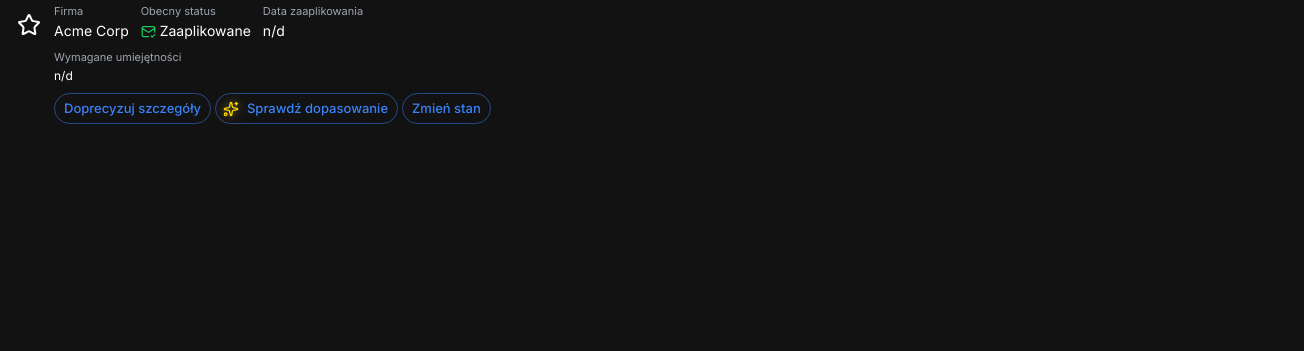
Test: ApplicationStatusEditor › requires archive reason when archiving
This screenshot has width=1304, height=351.
Click the button "Zmień stan". click: (446, 109)
box: x1=402 y1=94 x2=491 y2=124
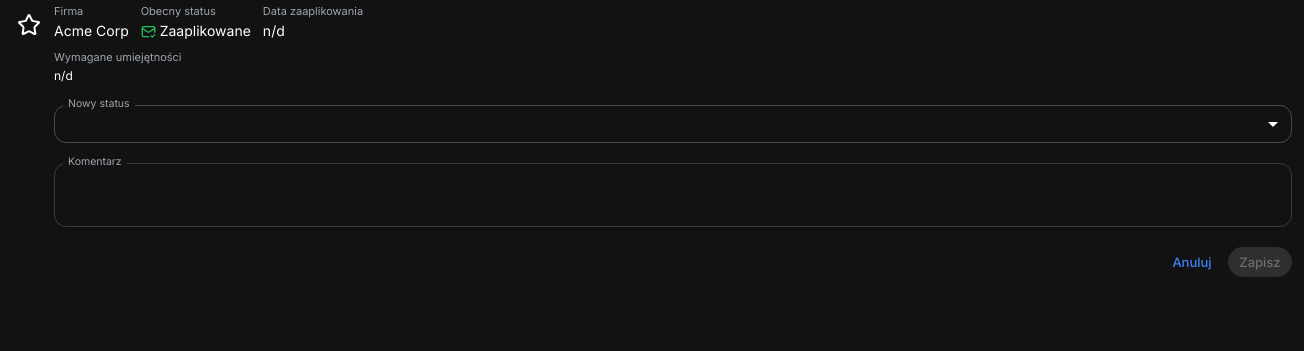
Press the mouse on the dropdown named "Nowy status" at (673, 124), box x1=54 y1=106 x2=1292 y2=143
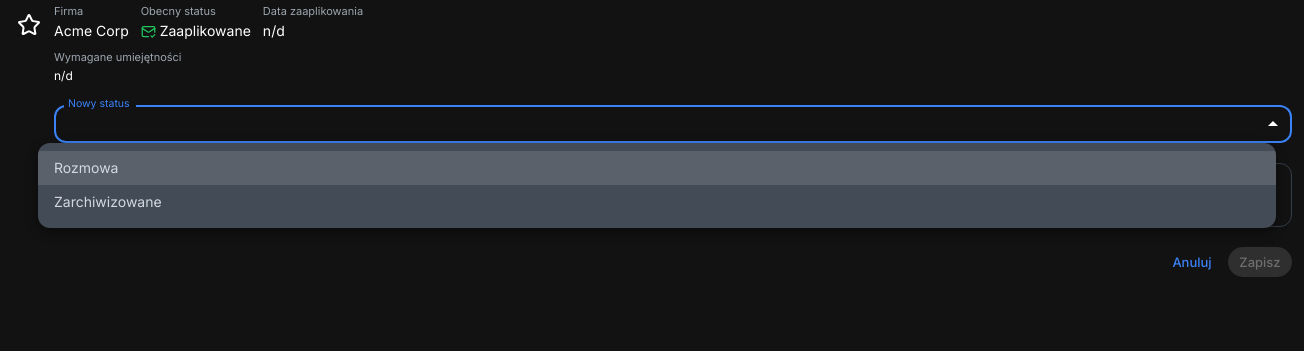
Click the option "Zarchiwizowane". click: (108, 202)
box: x1=54 y1=193 x2=162 y2=210
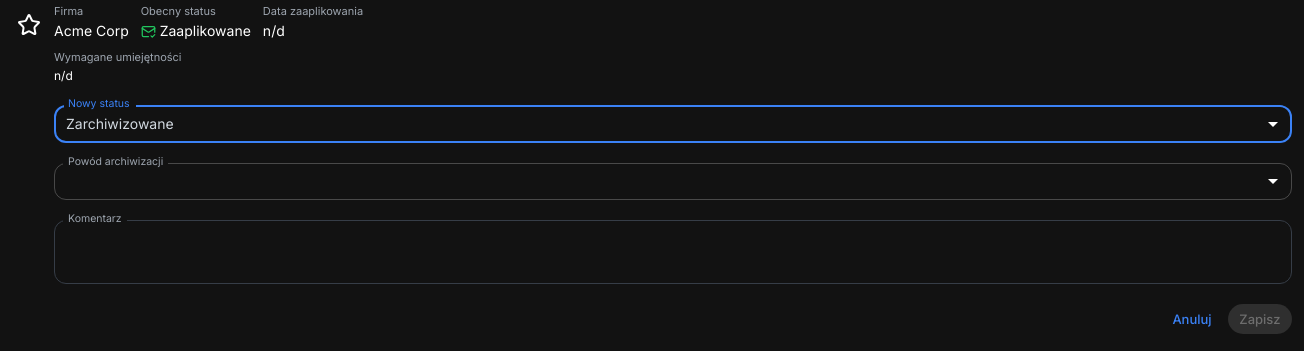
Check: the button "Zapisz" is disabled, box x1=1228 y1=304 x2=1292 y2=334
Check: the dropdown named "Powód archiwizacji" is shown, box x1=54 y1=163 x2=1292 y2=200
